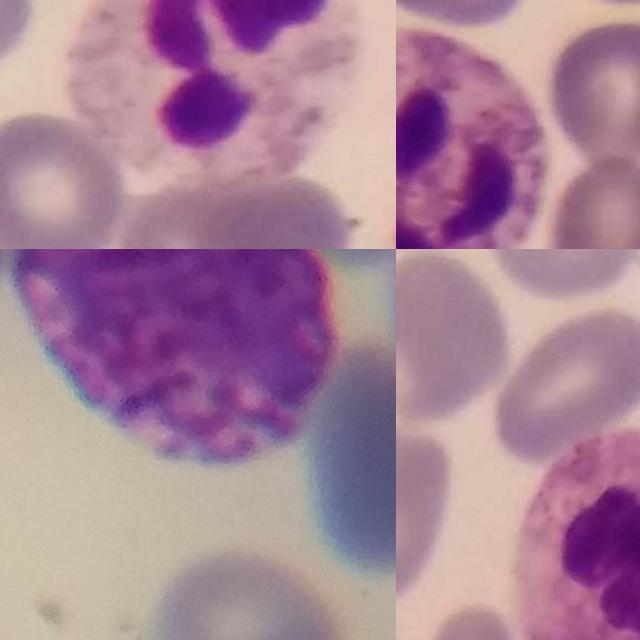Basophil: (7, 249, 338, 467)
Neutrophil: (65, 0, 359, 191), (396, 26, 548, 249), (512, 425, 640, 640)
